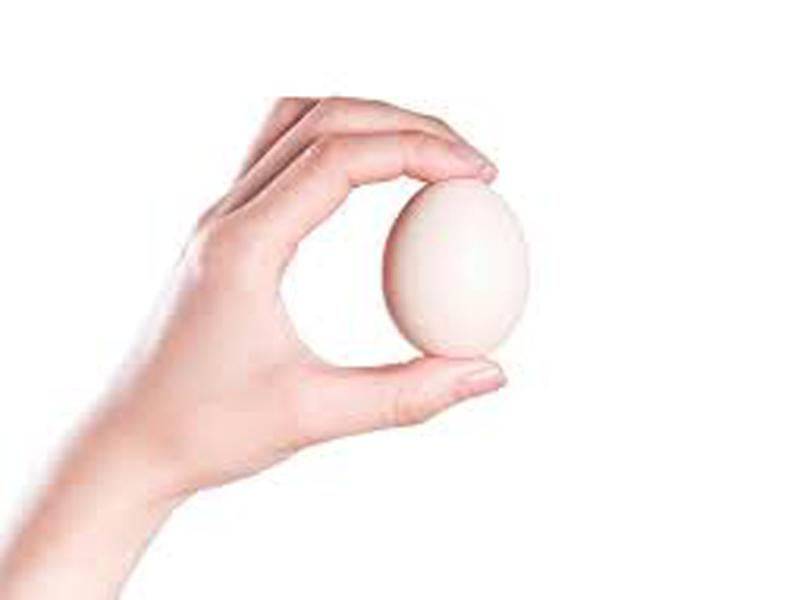Eggs: (382, 176, 529, 361)
